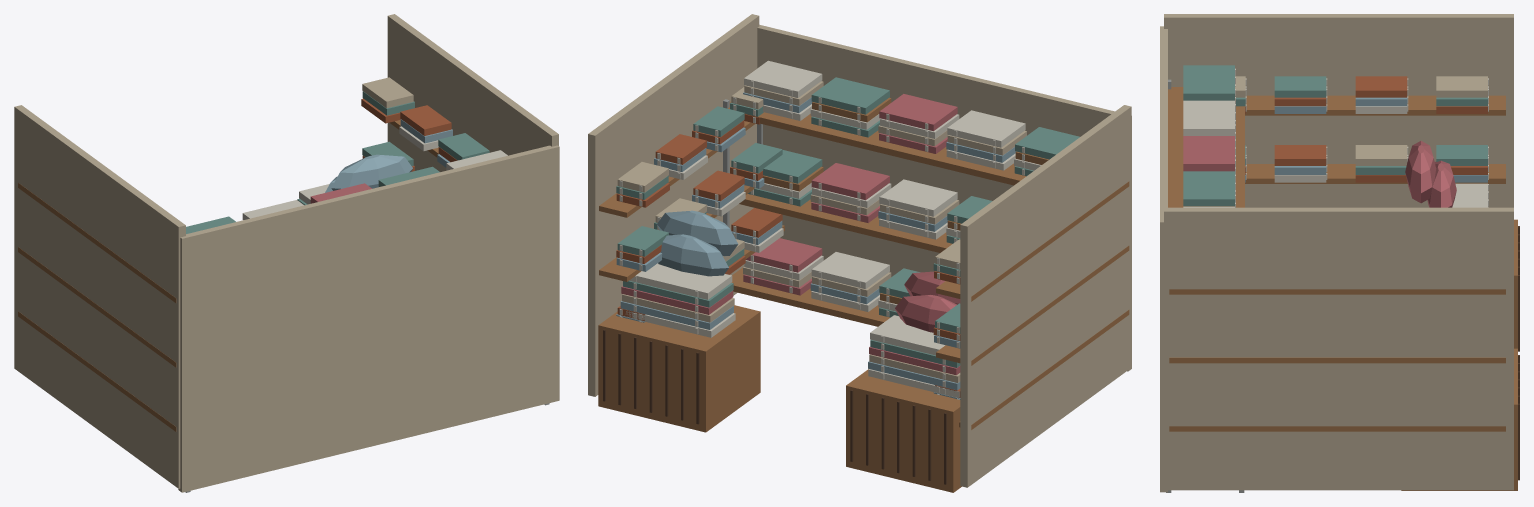
Rendered from linen.glb.
3 renders of one model, left to right at view 1: azimuth 30°, elevation 25°; view 2: azimuth 150°, elevation 25°; view 3: azimuth 270°, elevation 25°, orthographic. The views are drawn at different scales.
Parts seen in each view (by area): view 1: linen; view 2: linen; view 3: linen.
Boxes of the visible parts, bbox=[...] form: linen: bbox=[14, 14, 559, 492]; linen: bbox=[588, 14, 1131, 492]; linen: bbox=[1160, 14, 1519, 492].
Size of the model in its own units: 3.53 by 2.38 by 2.72.
